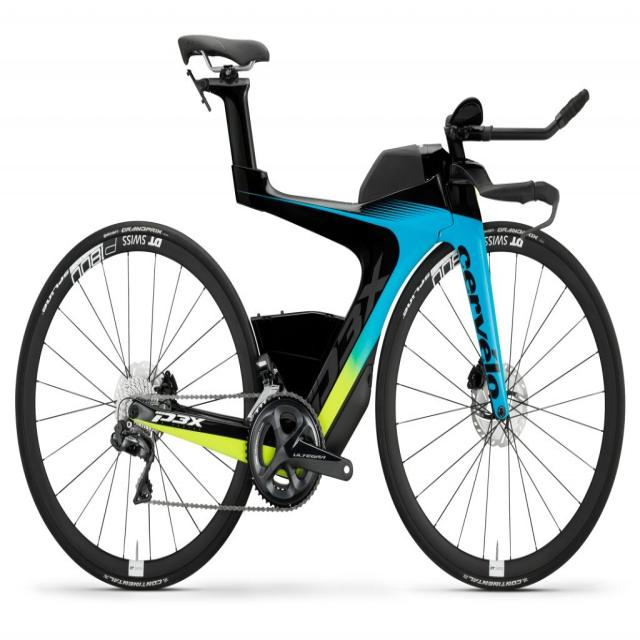TT-bike: (13, 33, 624, 594)
